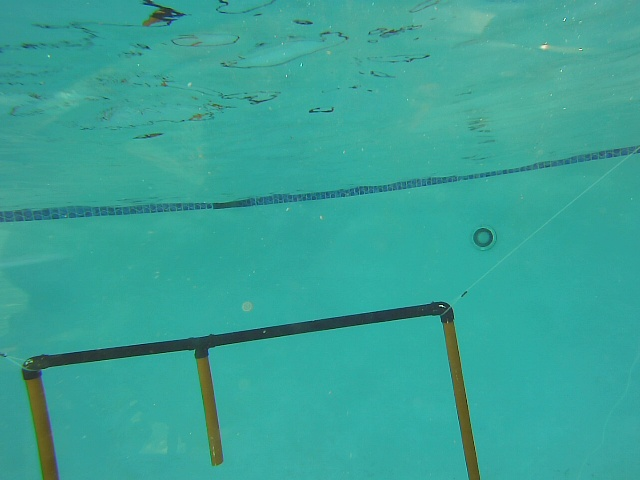Gate: (438, 313, 485, 480), (21, 371, 68, 480), (196, 350, 227, 467)
